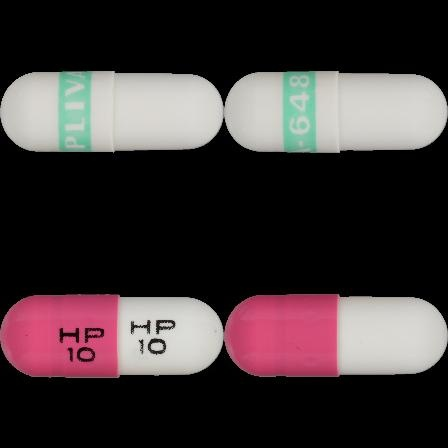42254-235: (0, 0, 224, 224)
